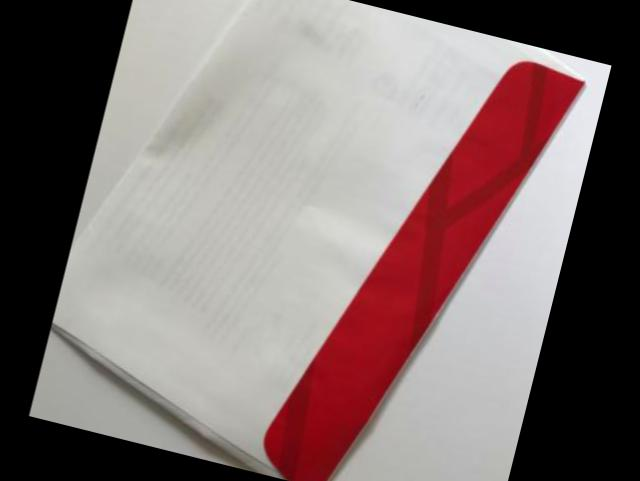cardboard paper: (53, 0, 586, 481)
